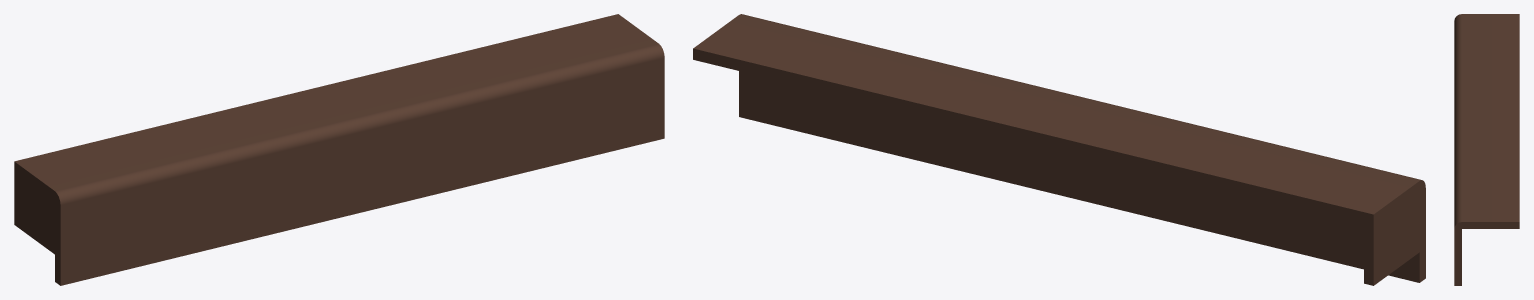
The model's file is SM_Long_serving_table.fbx.
3 renders of one model, left to right at view 1: azimuth 30°, elevation 25°; view 2: azimuth 150°, elevation 25°; view 3: azimuth 270°, elevation 25°, orthographic. The views are drawn at different scales.
Parts seen in each view (by area): view 1: long_serving_table; view 2: long_serving_table; view 3: long_serving_table.
Boxes of the visible parts, x1,y1,x2,y2 form: long_serving_table: (14,14,664,285); long_serving_table: (693,14,1425,285); long_serving_table: (1454,14,1519,285).
Size of the model in its own units: 224 by 32.09 by 29.7.
